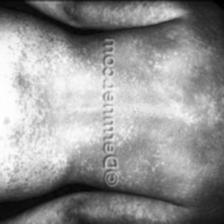Toxin: (118, 10, 224, 216), (18, 35, 96, 187)
